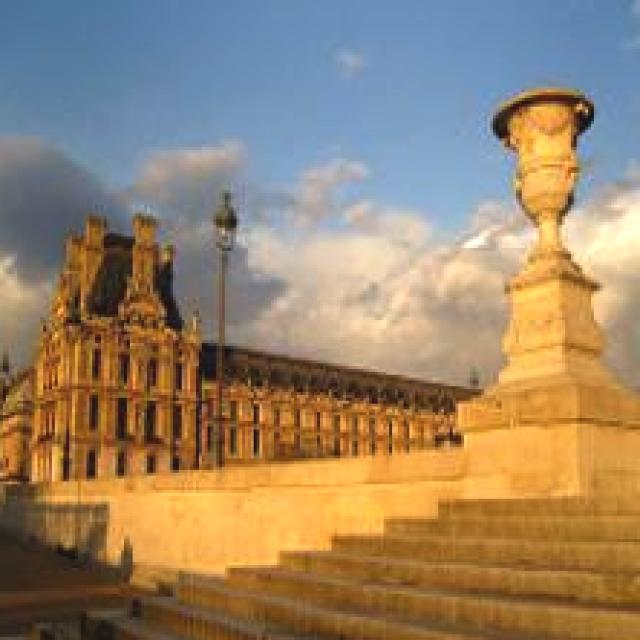upstair: (318, 468, 607, 638)
